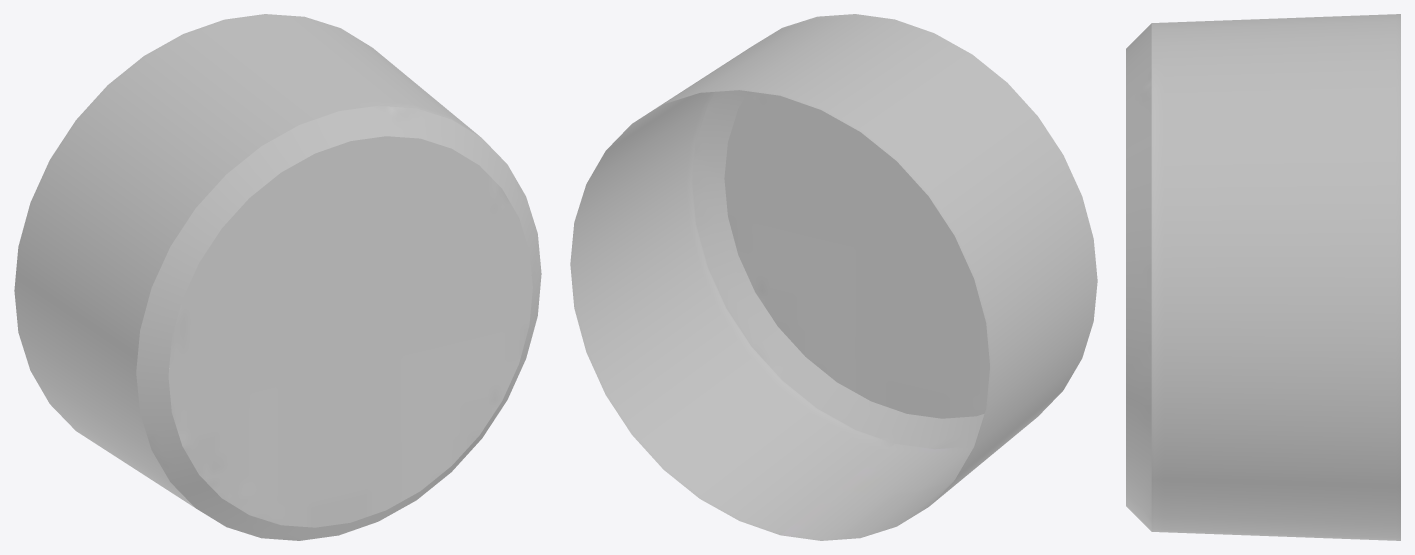
File: volume_knob.glb
3 renders of one model, left to right at view 1: azimuth 30°, elevation 25°; view 2: azimuth 150°, elevation 25°; view 3: azimuth 270°, elevation 25°, orthographic. The views are drawn at different scales.
Visible parts, largest first — view 1: volume_mixer; view 2: volume_mixer; view 3: volume_mixer.
Part boxes in pixels (bbox=[...]): volume_mixer: bbox=[14, 14, 541, 540]; volume_mixer: bbox=[570, 14, 1097, 540]; volume_mixer: bbox=[1126, 14, 1400, 540].
Bounding box in the file's own units: 0.0298 × 0.0298 × 0.0155.
Materials: 1 (1 with a texture image).
